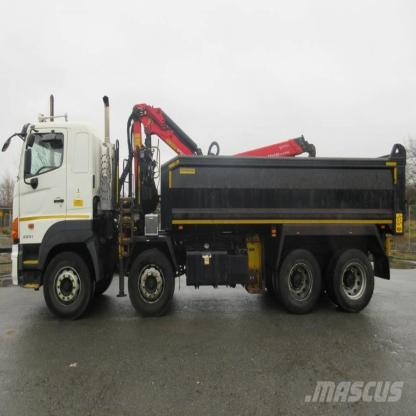dump_truck: (7, 83, 414, 335)
